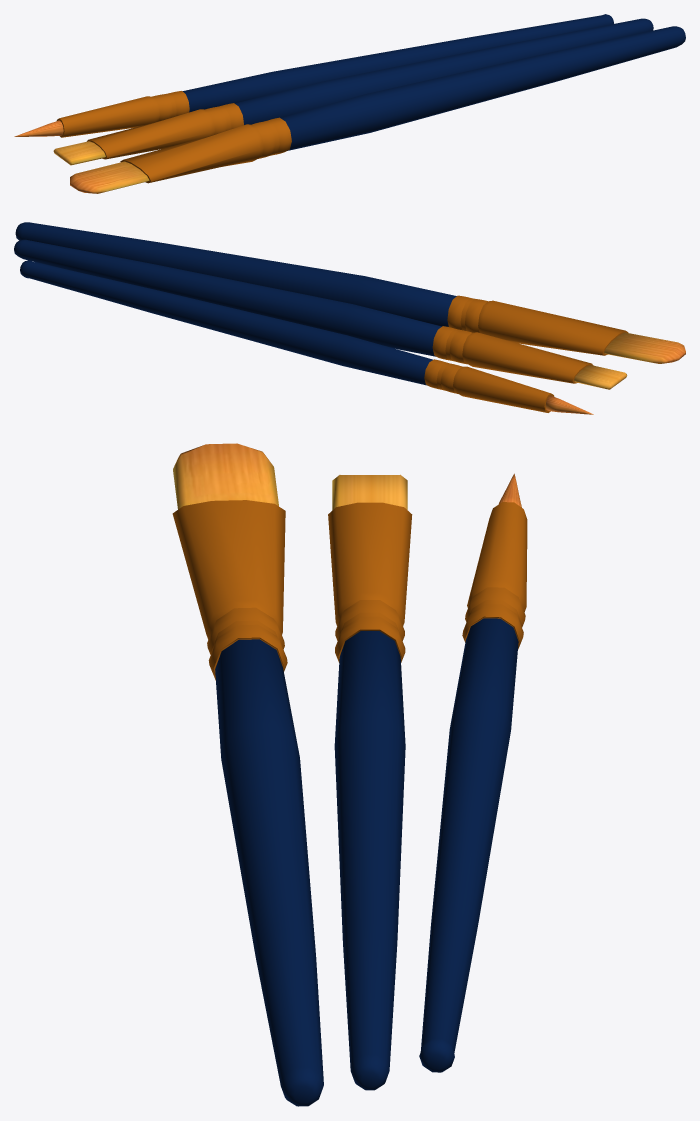
File: PaintBrushes.glb
3 renders of one model, top to bottom at view 1: azimuth 30°, elevation 25°; view 2: azimuth 150°, elevation 25°; view 3: azimuth 270°, elevation 25°, orthographic. The views are drawn at different scales.
Parts seen in each view (by area): view 1: PaintBrushes; view 2: PaintBrushes; view 3: PaintBrushes.
Part boxes in pixels (box(x1,y1,x2,y2)): PaintBrushes: box(14, 14, 685, 193); PaintBrushes: box(14, 222, 685, 414); PaintBrushes: box(172, 443, 527, 1106).
Size of the model in its own units: 20.24 by 1.17 by 4.94.
Materials: 3 (1 with a texture image).
